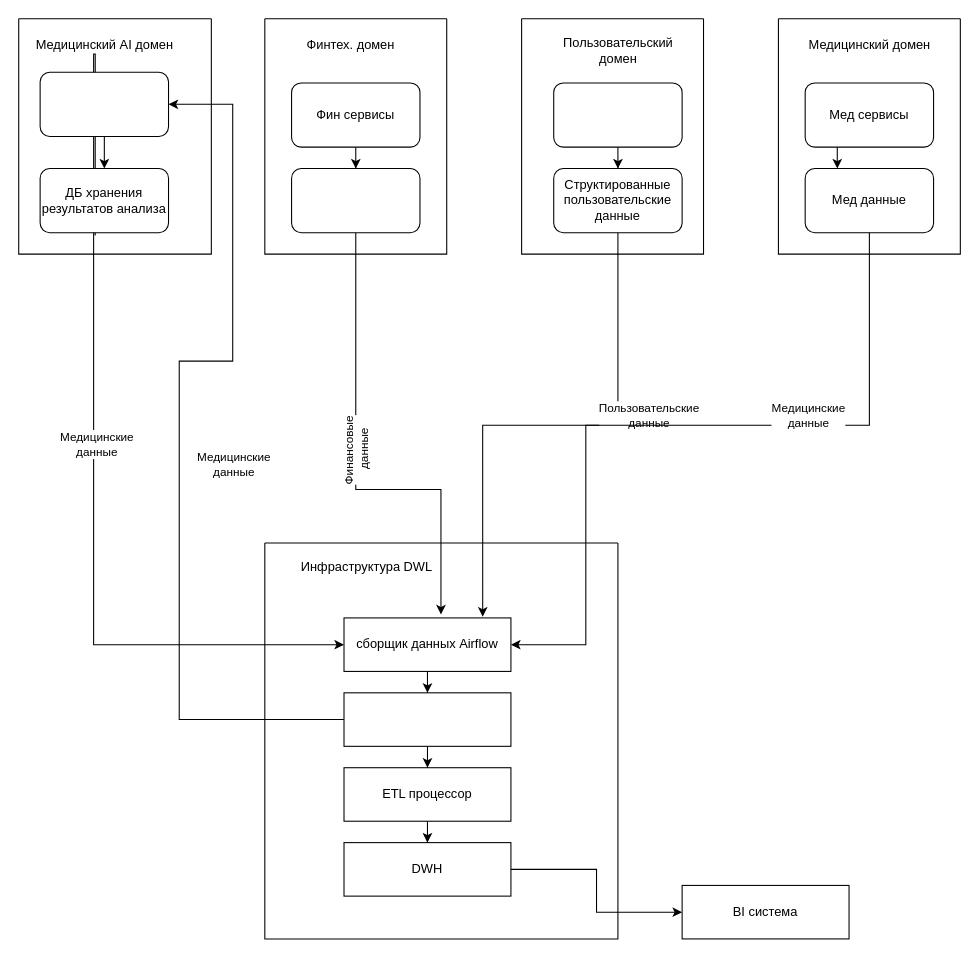
This 979x958 diagram has some shape labels left out. The shapes that lost their labels are listed below. From the top down, each one's centre as x and y in pixels, then its label:
pixel 104 103: AI сервисы
pixel 617 114: Клиентские ссервисы
pixel 355 200: Структурированные фин данные
pixel 427 719: DataLake [MiniO]
